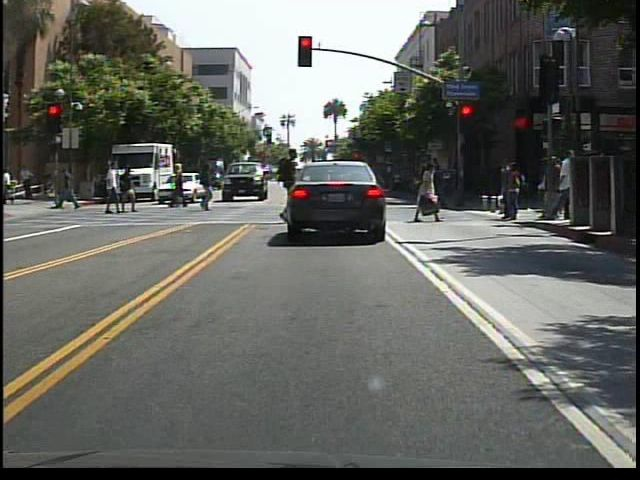person: (410, 158, 447, 228), (273, 145, 302, 205), (552, 149, 572, 223), (196, 162, 222, 215), (103, 161, 127, 218), (56, 163, 82, 214), (170, 163, 190, 211), (123, 166, 139, 214)
